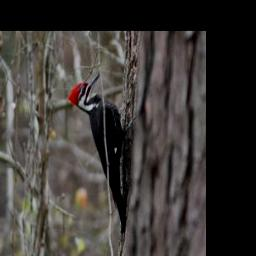Woodpecker: (65, 73, 136, 241)
